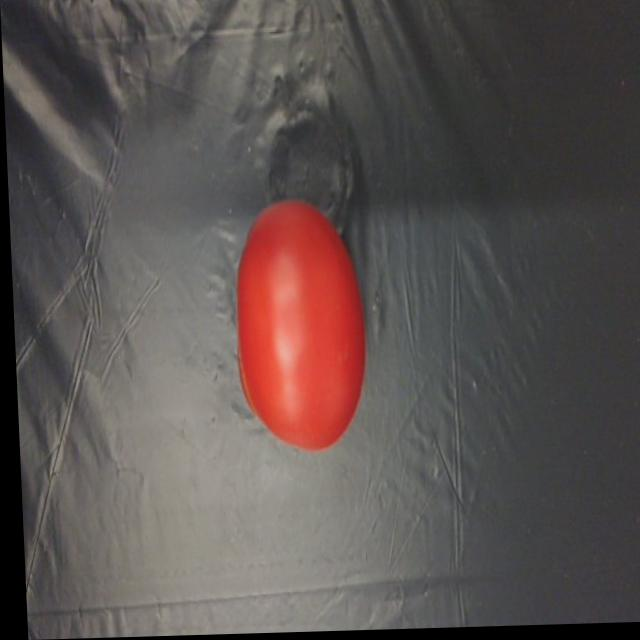kirmizi: (227, 198, 360, 452)
